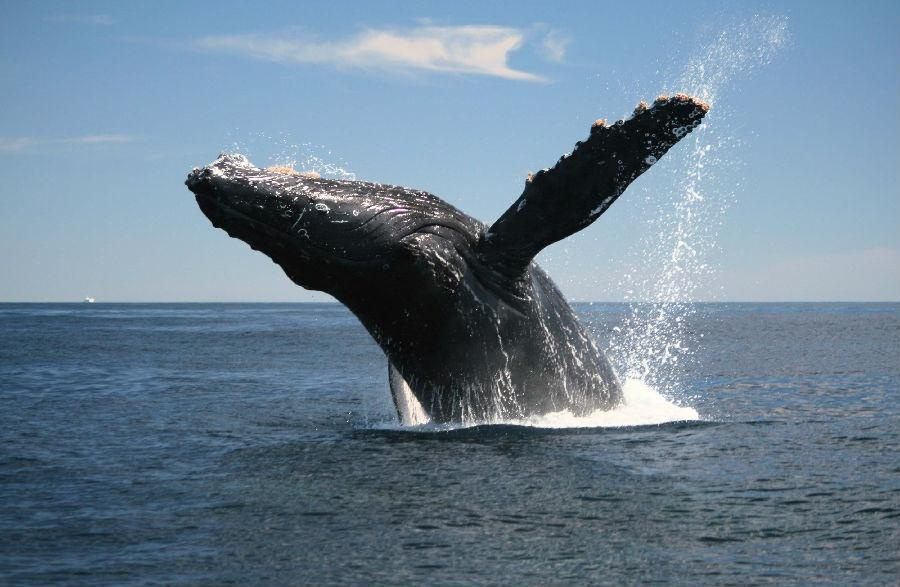fish: (173, 94, 721, 435)
